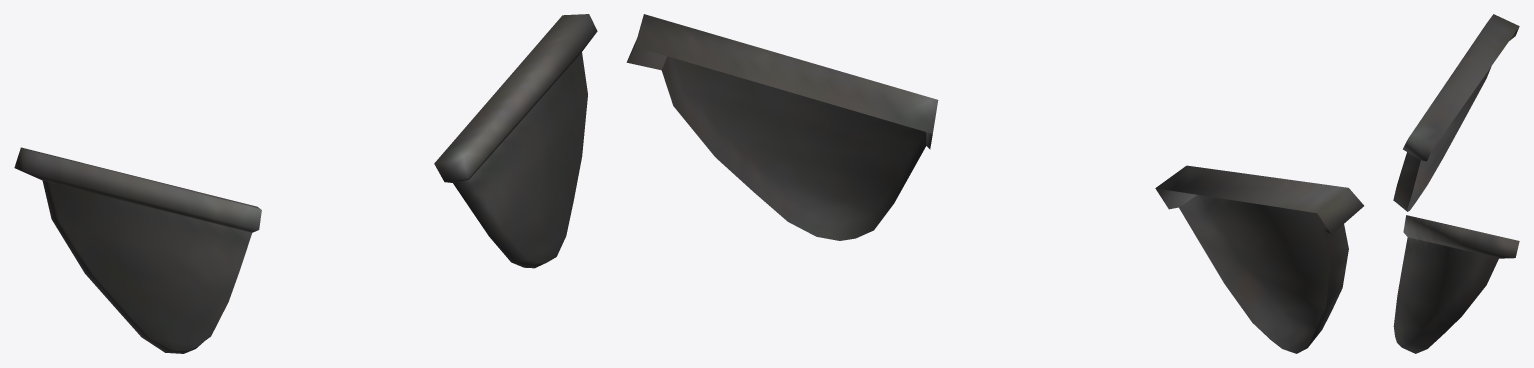
Rendered from Homeworld_Ani_Exterior_Common_Decoration_Prop_WoodAranaraEyes_03_Vo.fbx.
3 views of the same model, side by side, from view 1: azimuth 30°, elevation 25°; view 2: azimuth 150°, elevation 25°; view 3: azimuth 270°, elevation 25° (orthographic). The views are drawn at different scales.
Parts seen in each view (by area): view 1: Homeworld_Ani_Exterior_Common_Decoration_Prop_WoodAranaraEye; view 2: Homeworld_Ani_Exterior_Common_Decoration_Prop_WoodAranaraEye; view 3: Homeworld_Ani_Exterior_Common_Decoration_Prop_WoodAranaraEye.
Boxes of the visible parts, x1,y1,x2,y2 form: Homeworld_Ani_Exterior_Common_Decoration_Prop_WoodAranaraEye: [14, 14, 597, 353]; Homeworld_Ani_Exterior_Common_Decoration_Prop_WoodAranaraEye: [626, 14, 1363, 353]; Homeworld_Ani_Exterior_Common_Decoration_Prop_WoodAranaraEye: [1393, 14, 1519, 353].
Bounding box in the file's own units: 0.2099 × 0.067 × 0.0492.
